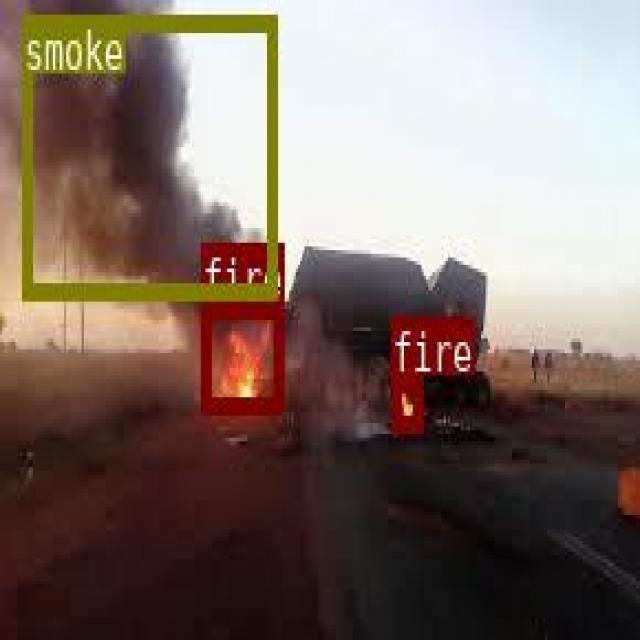fire: (201, 301, 282, 412), (391, 374, 422, 428)
smoke: (22, 14, 275, 296)
